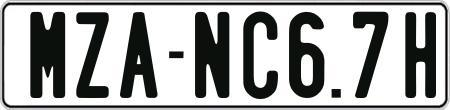6: (288, 9, 325, 99)
7: (351, 12, 389, 101)
A: (120, 12, 163, 100)
C: (240, 12, 280, 103)
H: (405, 9, 436, 99)
M: (27, 9, 68, 101)
N: (194, 12, 233, 103)
Z: (75, 11, 110, 102)
